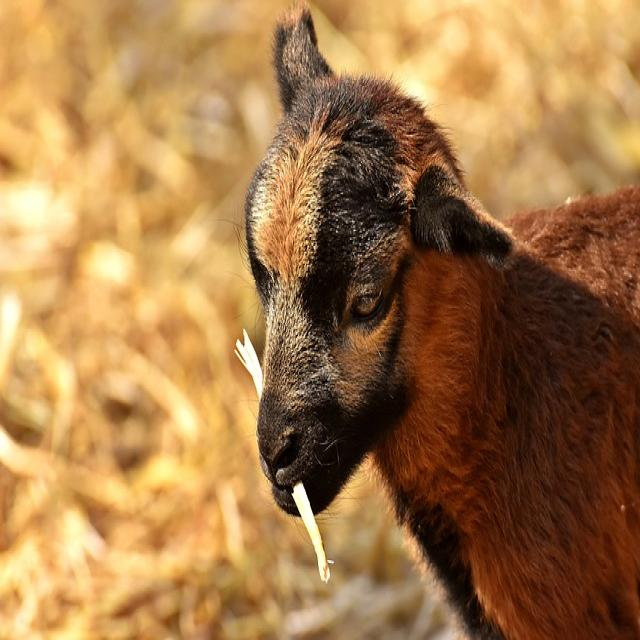sheep: (239, 1, 639, 638)
